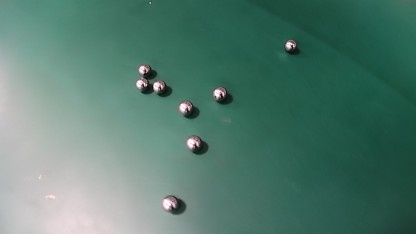ironball: (162, 195, 180, 212), (186, 135, 202, 152), (212, 86, 227, 101), (178, 101, 193, 116), (152, 80, 166, 94), (137, 63, 151, 76), (135, 77, 148, 91), (284, 39, 297, 52)
